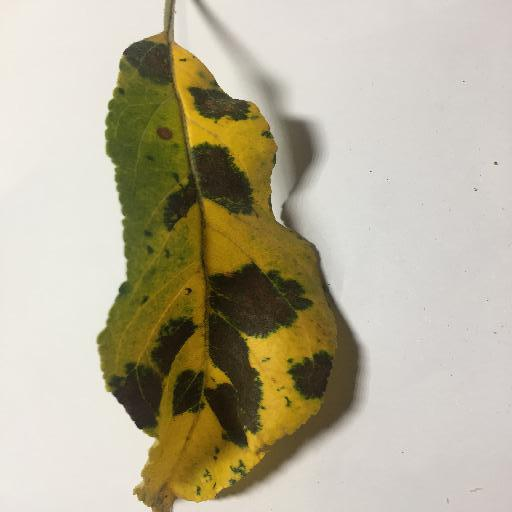Brown_Spot: (111, 268, 321, 439), (165, 137, 252, 227), (122, 36, 175, 90), (194, 86, 261, 120)
